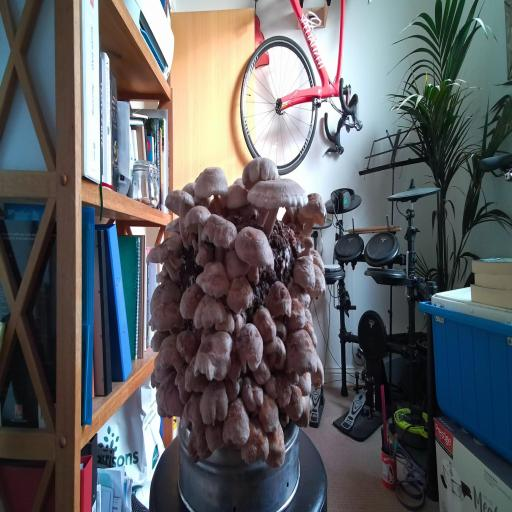Shiitake Mushroom: (228, 150, 327, 245), (225, 211, 285, 296), (189, 199, 252, 272), (157, 175, 212, 252), (223, 315, 277, 380), (142, 221, 191, 288), (188, 153, 237, 217), (193, 323, 234, 386), (236, 414, 277, 476), (182, 286, 235, 333), (149, 369, 188, 431), (292, 184, 333, 241), (177, 195, 217, 253), (147, 329, 189, 384), (173, 354, 216, 407), (233, 149, 286, 192), (165, 321, 209, 368), (172, 274, 209, 327), (283, 325, 319, 379), (247, 300, 283, 350), (142, 276, 188, 313), (197, 376, 230, 427), (252, 392, 286, 440), (235, 374, 269, 419), (208, 304, 243, 346), (280, 381, 311, 427), (146, 299, 186, 334), (281, 276, 318, 313), (222, 398, 250, 446), (224, 273, 255, 316), (196, 260, 230, 299), (261, 332, 290, 377), (303, 262, 332, 307), (184, 422, 213, 465), (143, 319, 175, 356), (247, 353, 277, 391), (219, 182, 250, 218), (181, 391, 206, 435), (265, 279, 292, 318), (293, 390, 317, 433), (283, 295, 308, 333), (299, 307, 320, 352), (172, 366, 194, 408), (266, 422, 286, 468), (306, 352, 329, 392), (203, 417, 227, 454), (224, 347, 246, 385), (225, 249, 250, 280), (222, 369, 244, 404), (293, 256, 316, 289), (306, 246, 332, 275), (192, 240, 216, 271), (261, 373, 284, 404), (276, 371, 293, 408), (297, 235, 315, 257), (282, 205, 299, 225), (147, 368, 161, 392), (298, 373, 311, 396), (165, 218, 179, 234), (182, 180, 195, 196)
